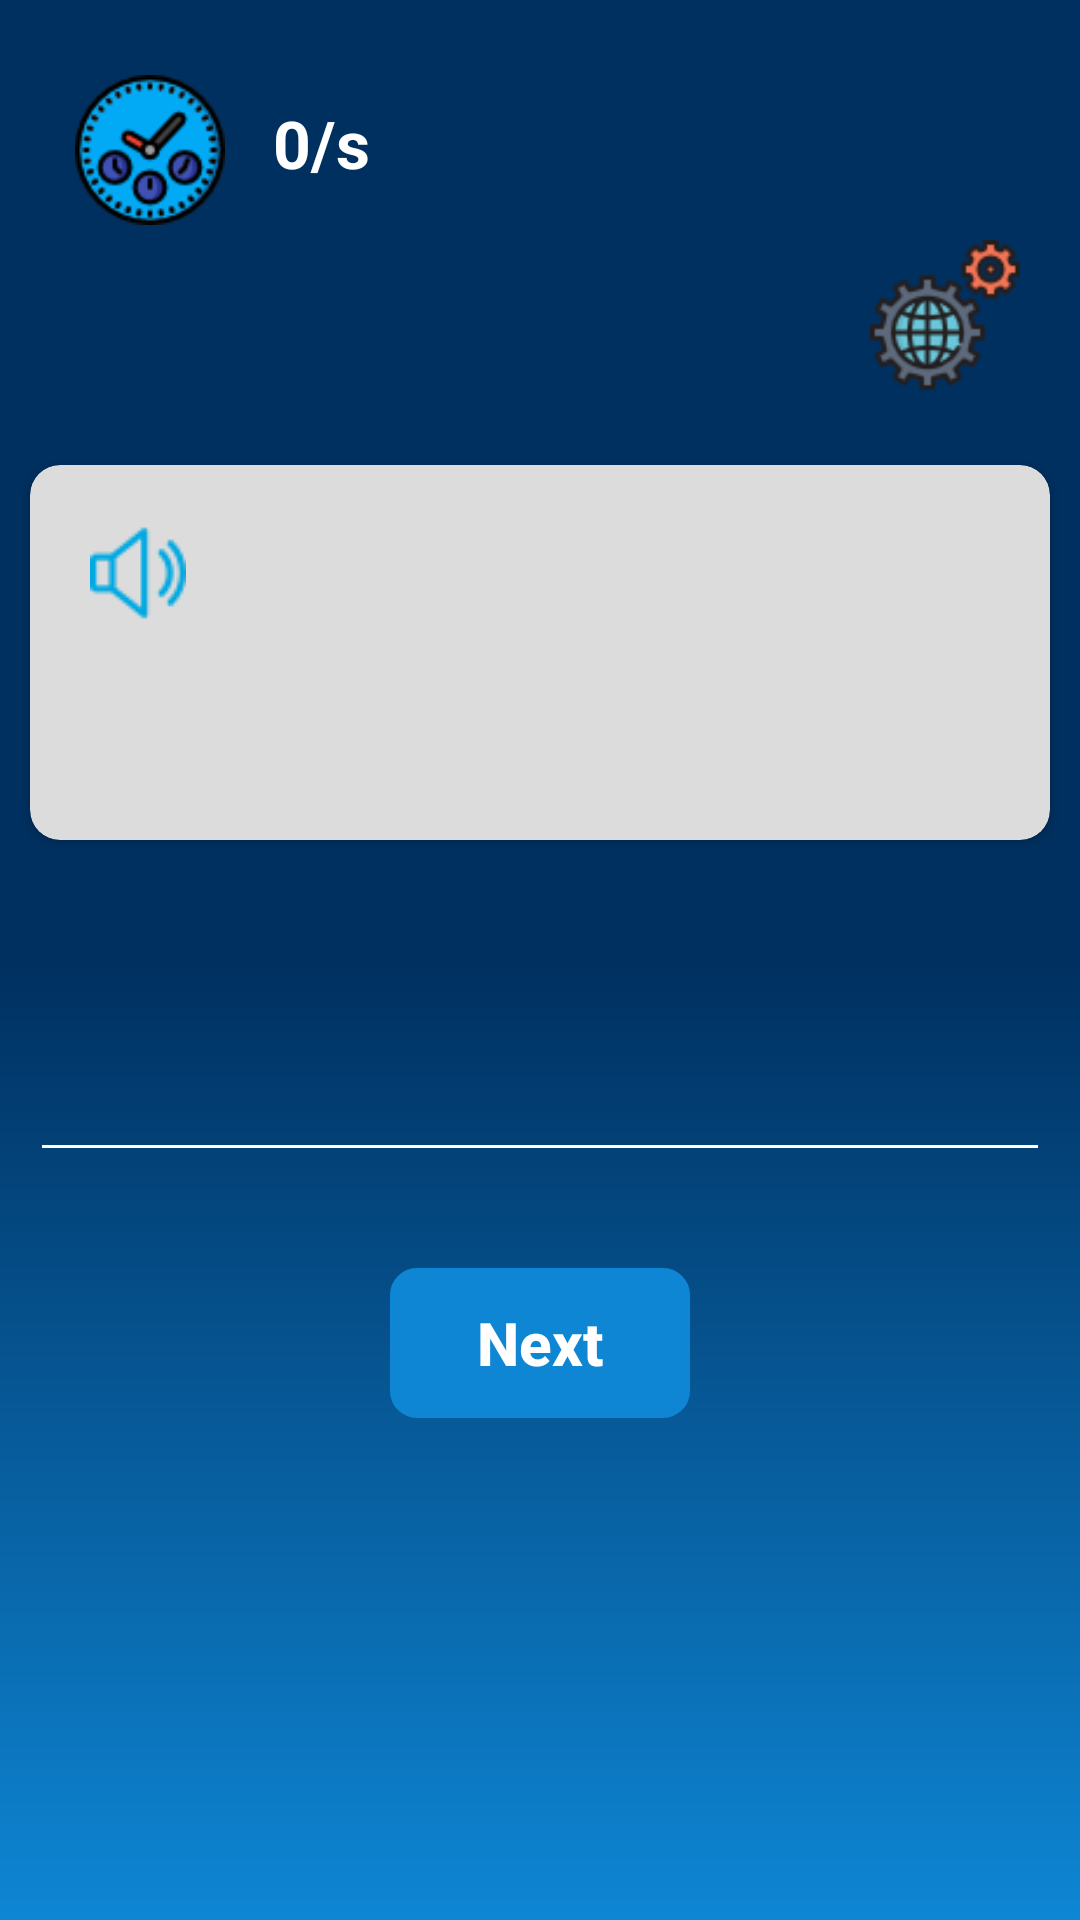

Icon bounding boxes for this 1080 x 1920 phone screenshot, format (x1, y1, x2, y2):
clock: (75, 75, 225, 225)
development: (870, 240, 1020, 390)
volume: (90, 527, 186, 619)
